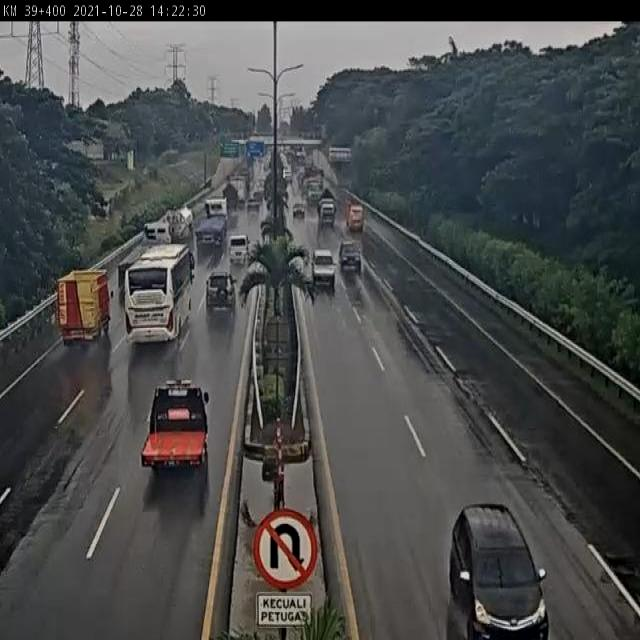Bus: (124, 244, 195, 343)
Car: (447, 505, 549, 638), (141, 377, 210, 475), (205, 271, 238, 317), (338, 240, 362, 272), (228, 232, 250, 264), (247, 192, 261, 213), (292, 202, 306, 218)
Truck: (55, 268, 111, 346), (194, 198, 227, 254), (318, 188, 335, 225), (345, 199, 364, 232)
Van: (312, 249, 336, 290)
